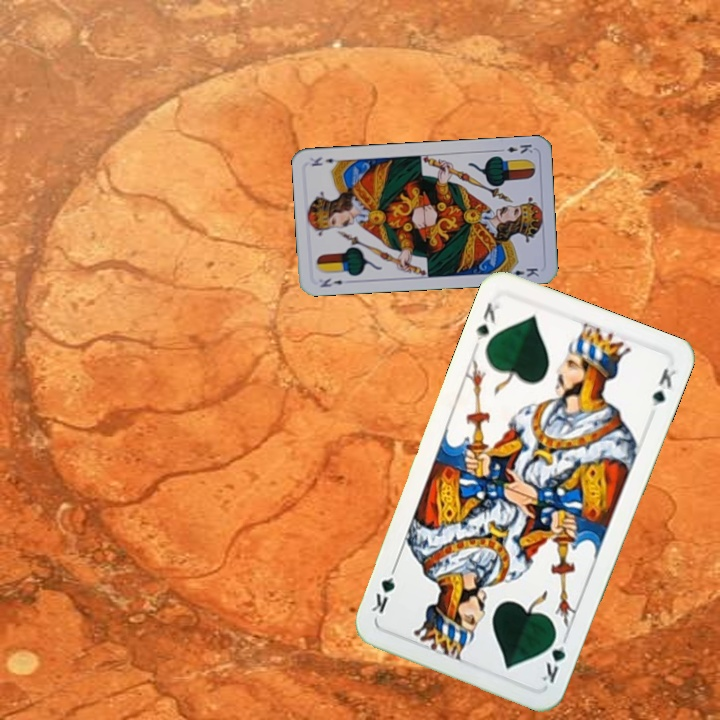EK: (494, 140, 535, 156), (316, 274, 345, 290)
GK: (536, 628, 571, 686), (472, 298, 503, 343)
